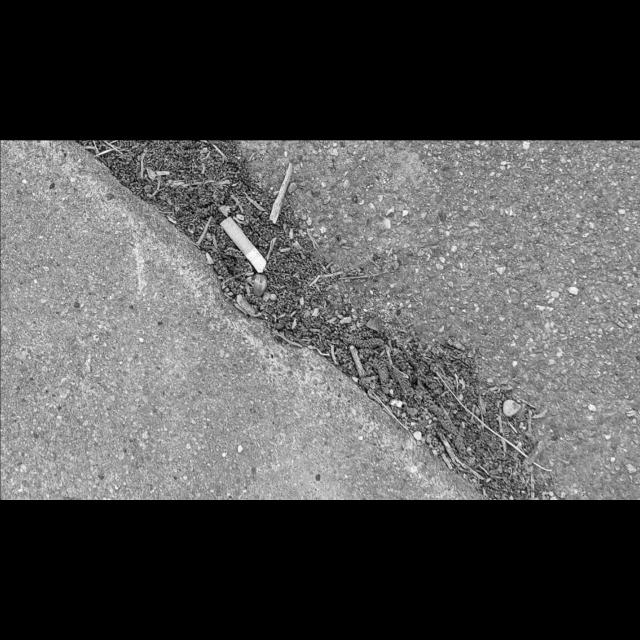cigarette: (220, 216, 268, 273)
